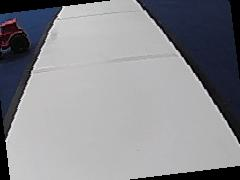Tracktor: (0, 17, 30, 54)
